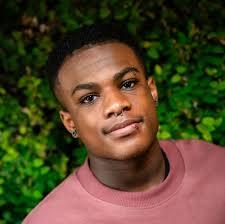person: (42, 18, 168, 163)
